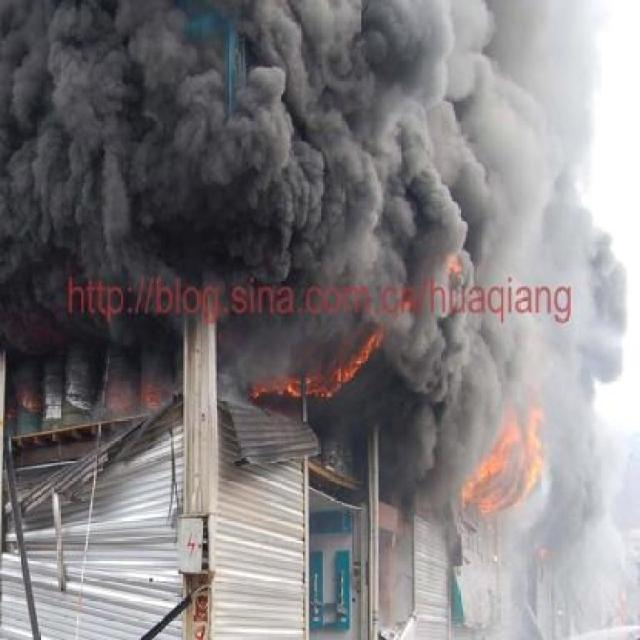Fire: (233, 314, 392, 407), (22, 346, 182, 426), (460, 387, 550, 527)
Smoke: (2, 2, 633, 340), (398, 341, 626, 415), (564, 418, 612, 558), (406, 424, 454, 522)
